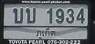txt21: (12, 7, 24, 24), (25, 7, 37, 24)
